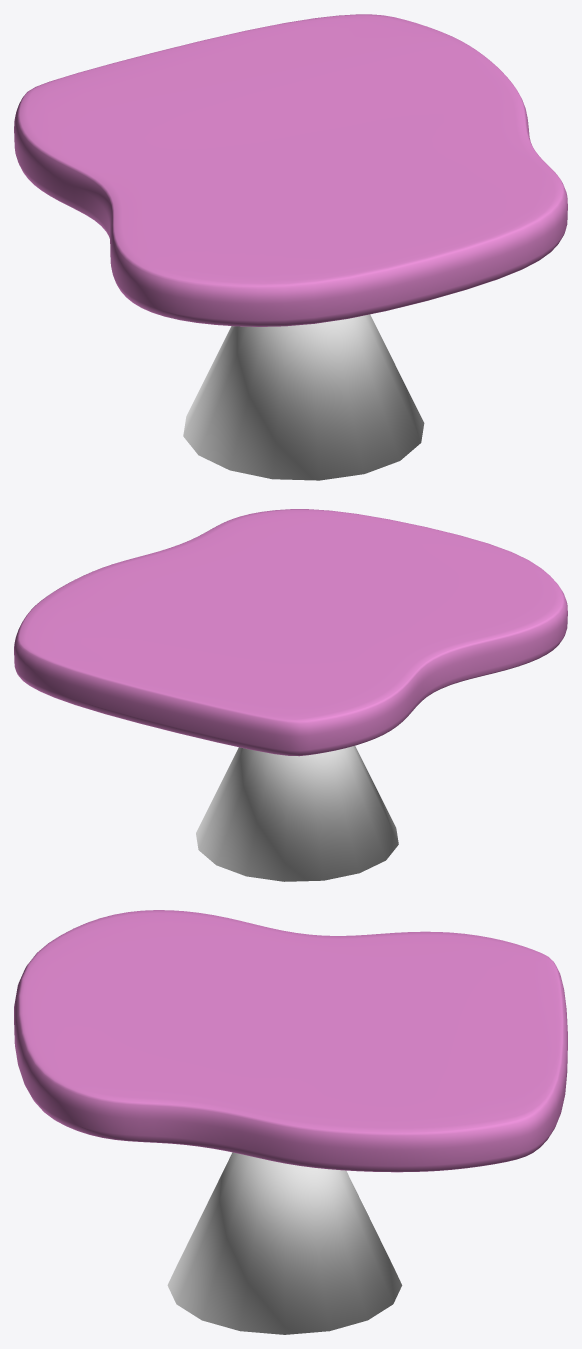
The model's file is SM_Tables2.fbx.
The picture shows the model from 3 angles, top to bottom: view 1: azimuth 30°, elevation 25°; view 2: azimuth 150°, elevation 25°; view 3: azimuth 270°, elevation 25°; orthographic projection. The views are drawn at different scales.
Visible parts, largest first — view 1: ShroomTableTop.002, ShroomTableLegCone; view 2: ShroomTableTop.002, ShroomTableLegCone; view 3: ShroomTableTop.002, ShroomTableLegCone.
Part boxes in pixels (x1,y1,x2,y2): ShroomTableTop.002: (14, 14, 567, 326); ShroomTableLegCone: (183, 314, 424, 480); ShroomTableTop.002: (14, 509, 567, 756); ShroomTableLegCone: (196, 745, 398, 881); ShroomTableTop.002: (14, 910, 567, 1172); ShroomTableLegCone: (167, 1152, 402, 1334).
Bounding box in the file's own units: 190 × 103 × 195.
